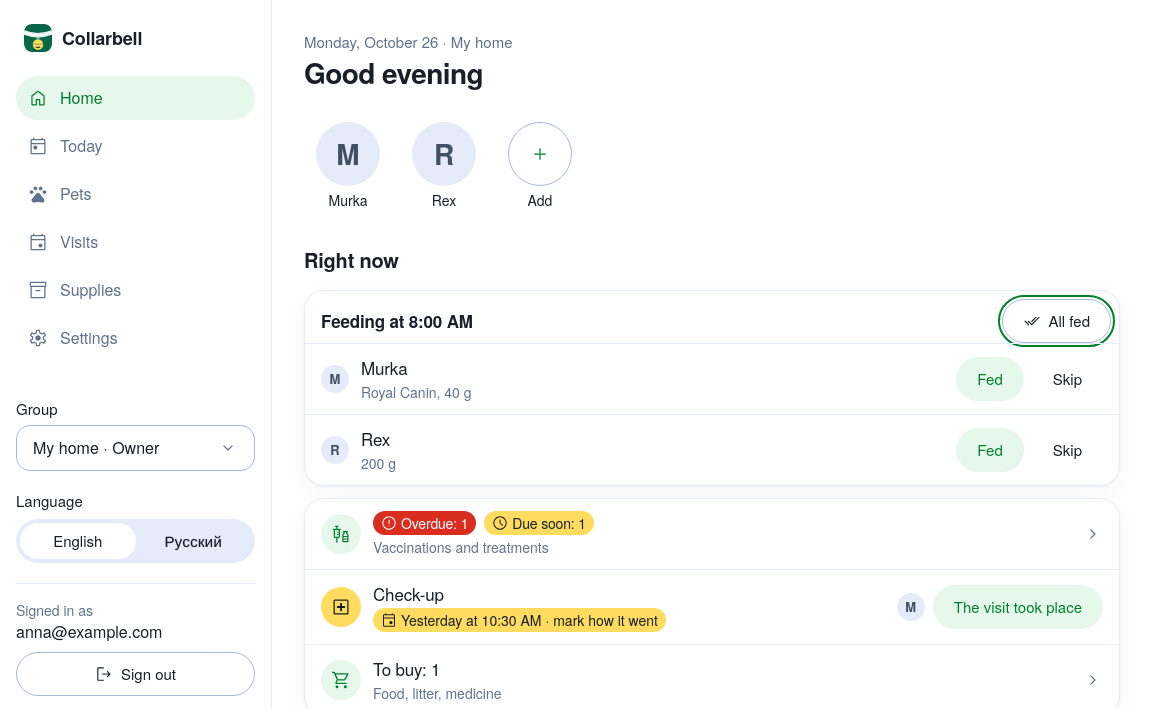
Scenario: Home › marks the next feeding as Today does, then shows the one after it
The image size is (1152, 709).
Click the button "All fed": (1056, 321) [1002,299,1111,343]
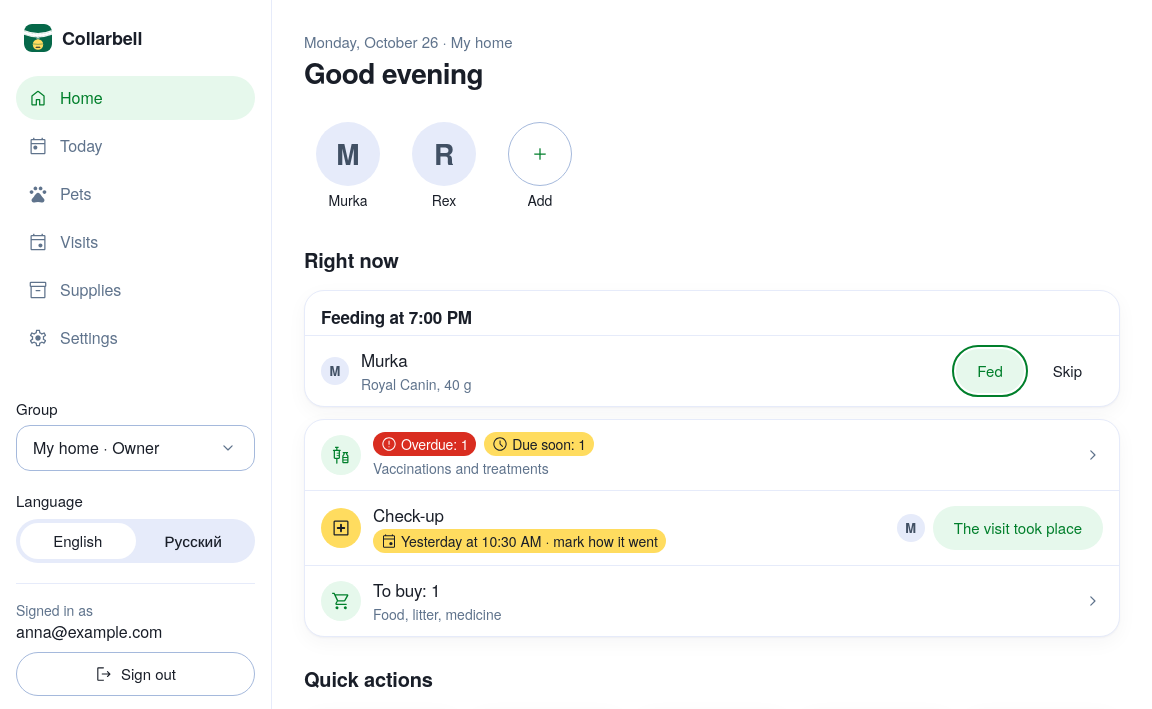
Result: the heading "Feeding at 7:00 PM" is shown at [321,305,472,329]
Result: the number of buttons "Fed" is 1 at [956,349,1024,393]
